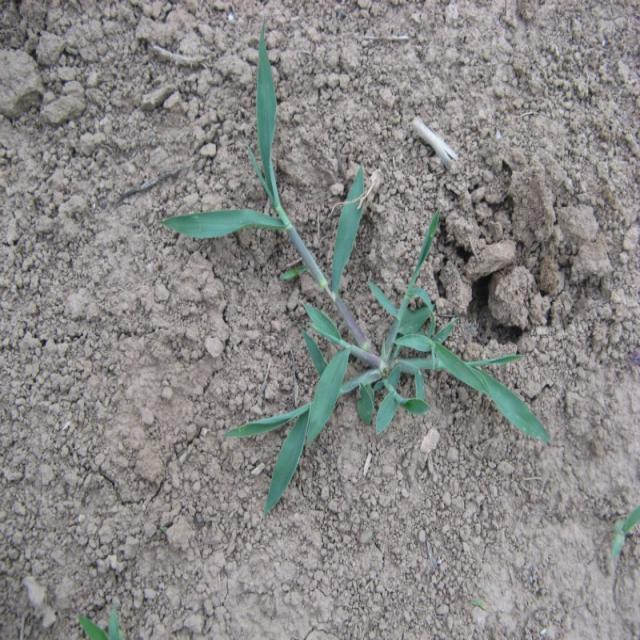bg: (155, 31, 549, 512)
